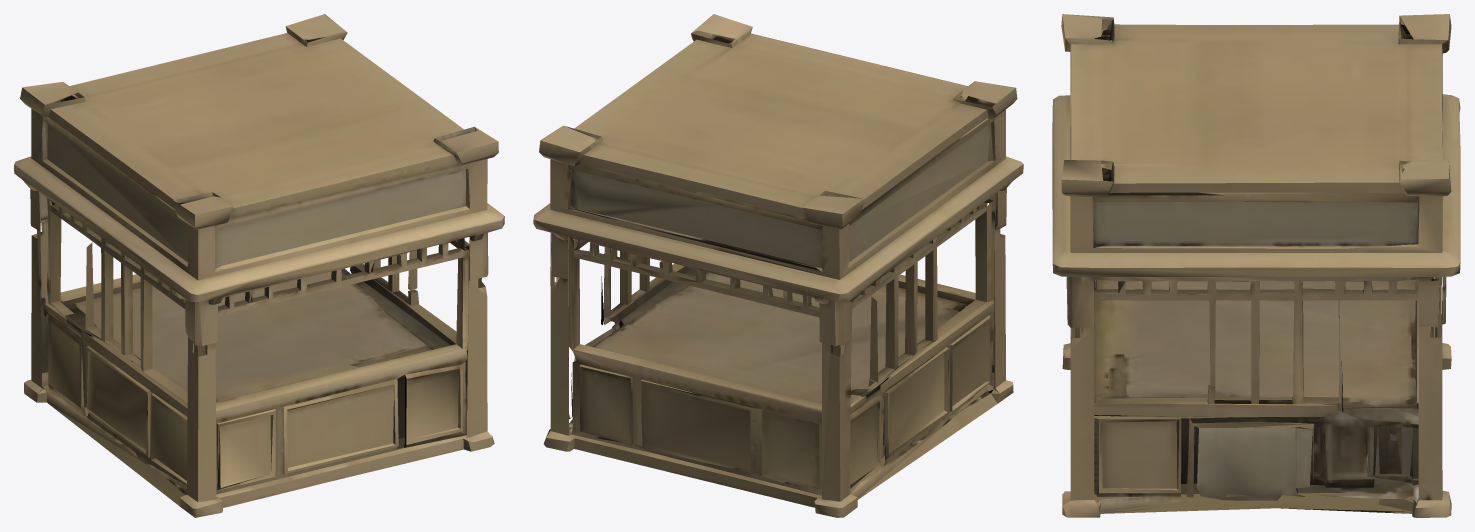
3 views of the same model, side by side, from view 1: azimuth 30°, elevation 25°; view 2: azimuth 150°, elevation 25°; view 3: azimuth 270°, elevation 25° (orthographic). The views are drawn at different scales.
Parts seen in each view (by area): view 1: geometry_0; view 2: geometry_0; view 3: geometry_0.
Part boxes in pixels (bbox=[...]): geometry_0: bbox=[14, 14, 504, 517]; geometry_0: bbox=[533, 14, 1023, 517]; geometry_0: bbox=[1052, 14, 1460, 517].
Bounding box in the file's own units: 1 × 0.9234 × 1.
1 material, 1 textured.
